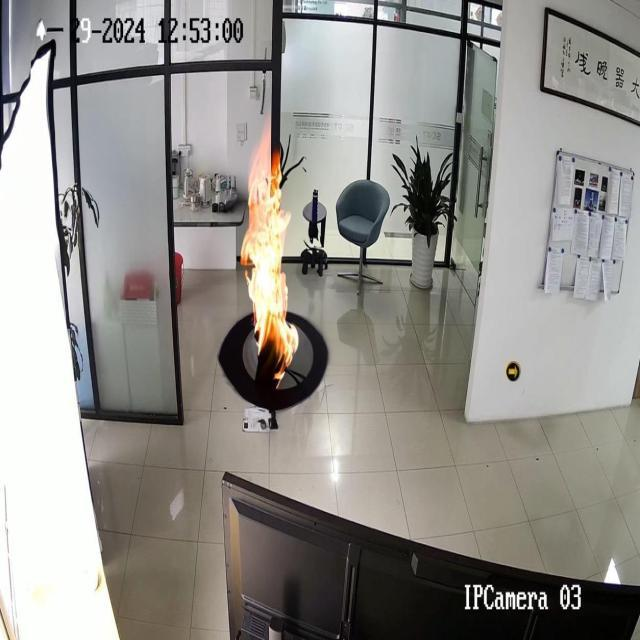smoke: (238, 127, 297, 374)
